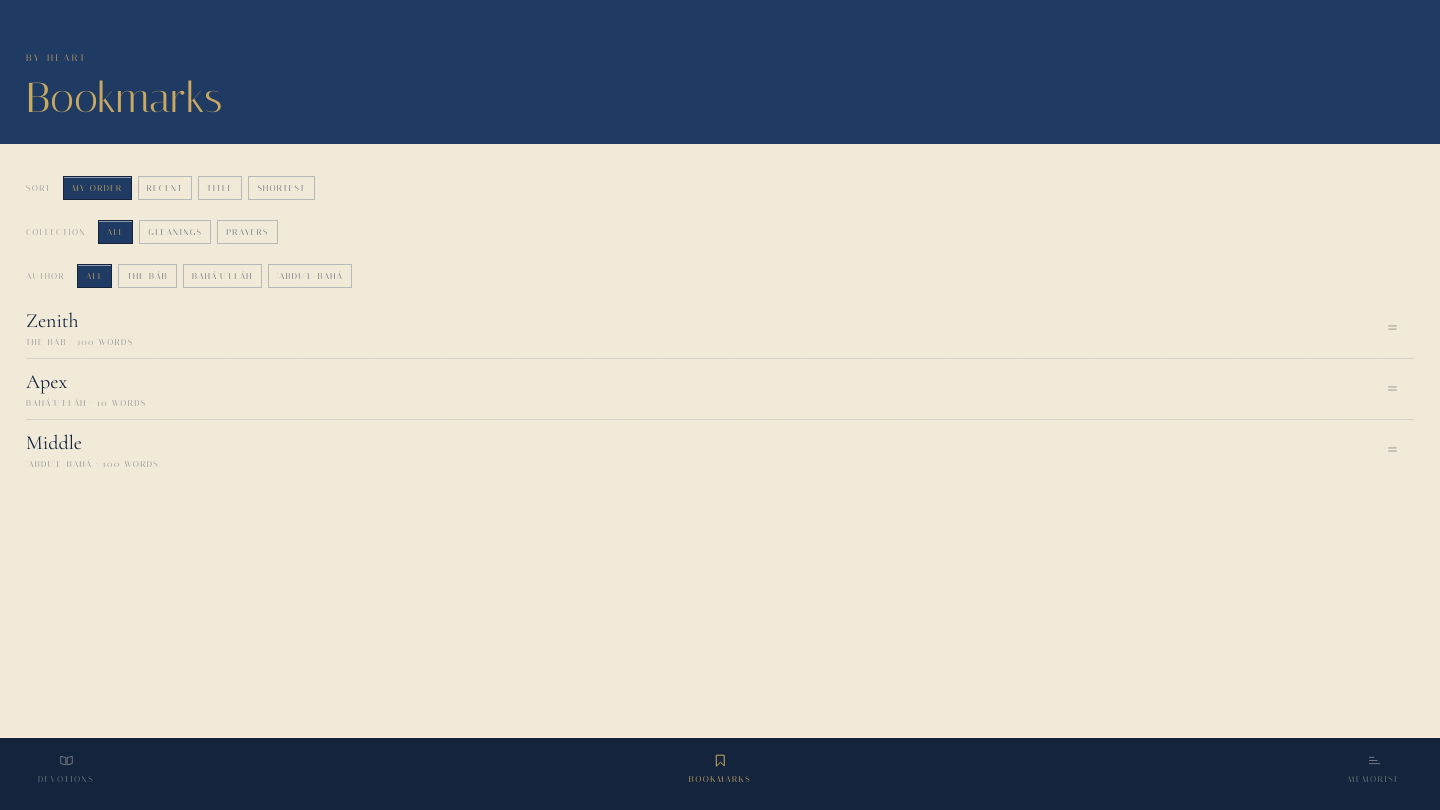
Test: Bookmarks, scope 6.7 › says so when the filters leave nothing, rather than showing an empty screen
The image size is (1440, 810).
Click the radio button labelled "GLEANINGS".
click(175, 232)  # box [139,210,211,254]
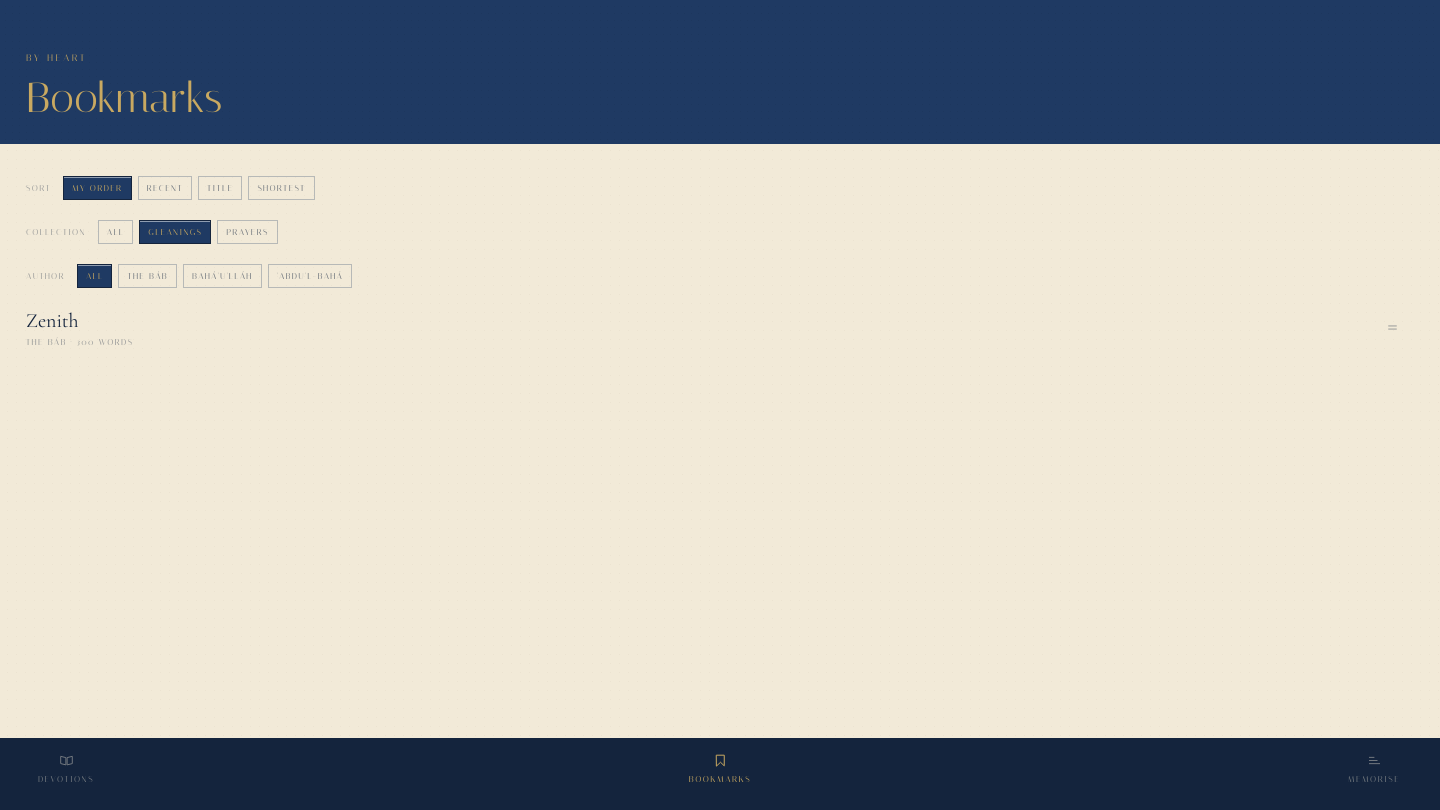
Click the radio button labelled "BAHÁ'U'LLÁH".
click(222, 276)  # box [183,254,262,298]
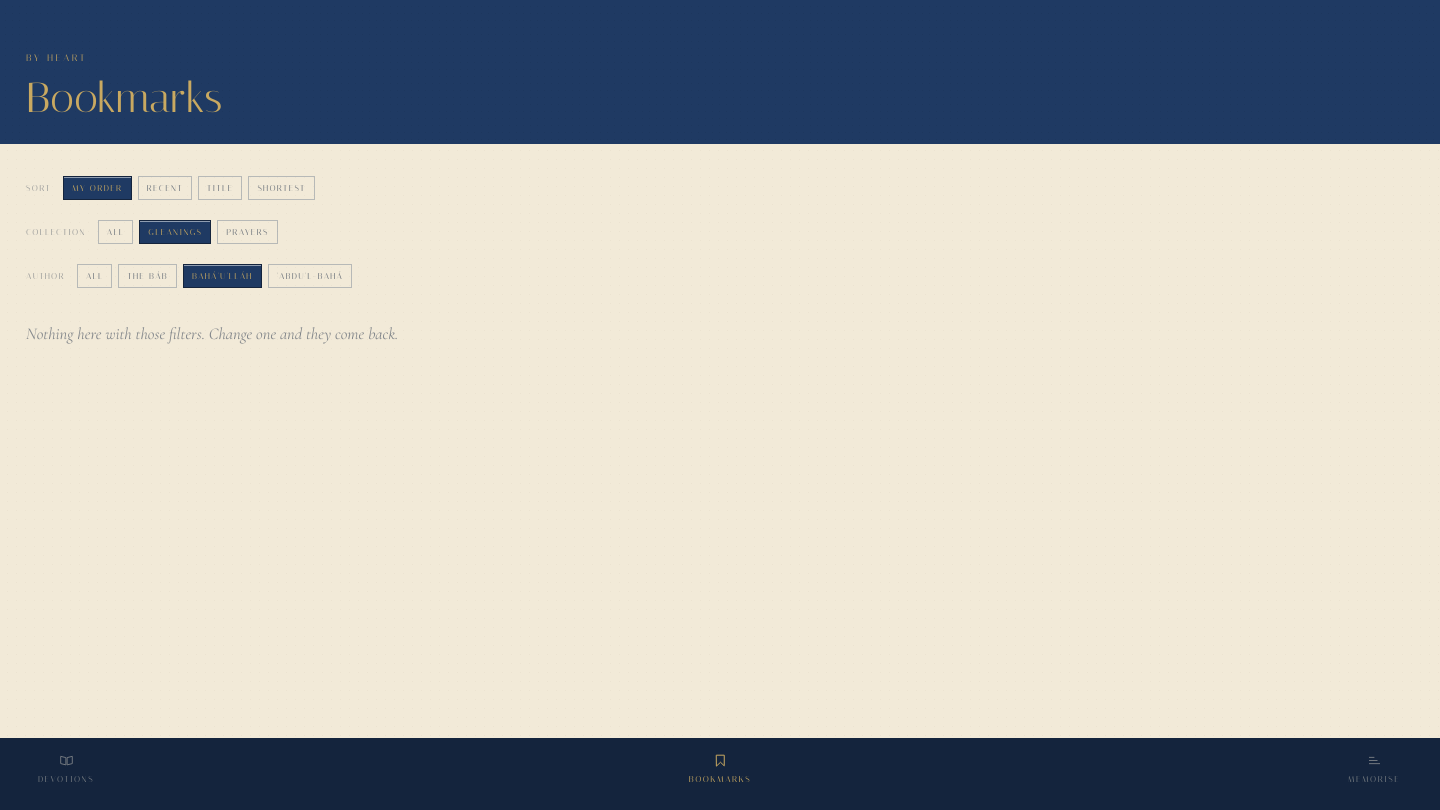
Check: the text "Nothing here with those filters. Change one and they come back." is shown, box [26,324,398,344]
